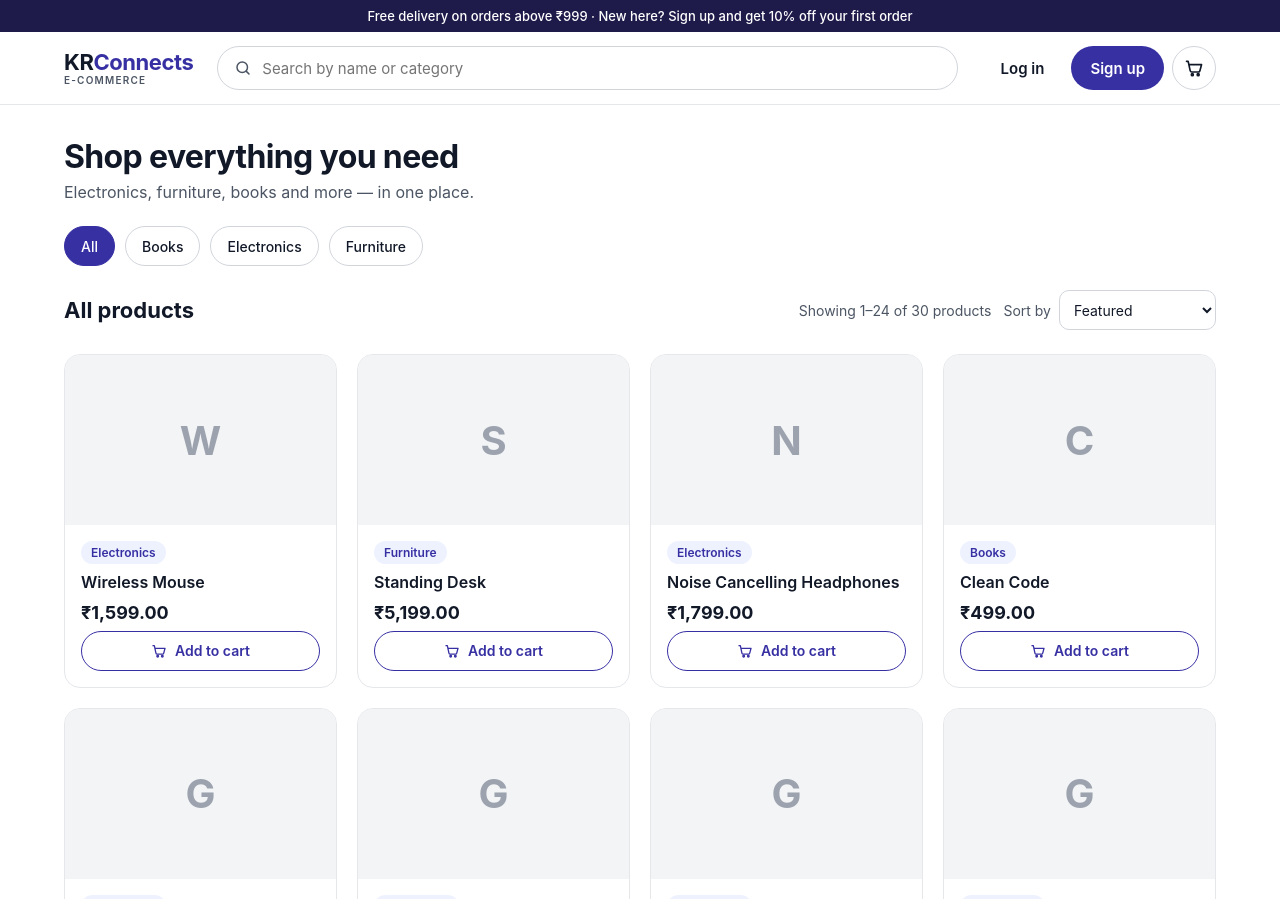
Scenario: App (storefront home page) › removes a product from the cart from the home page
Check: the link "Wireless Mouse" is shown, box [81,572,205,592]
// Add, then remove the same product
Click the button "Add to cart" below "₹1,599.00" at (200, 651), box [81,631,320,671]
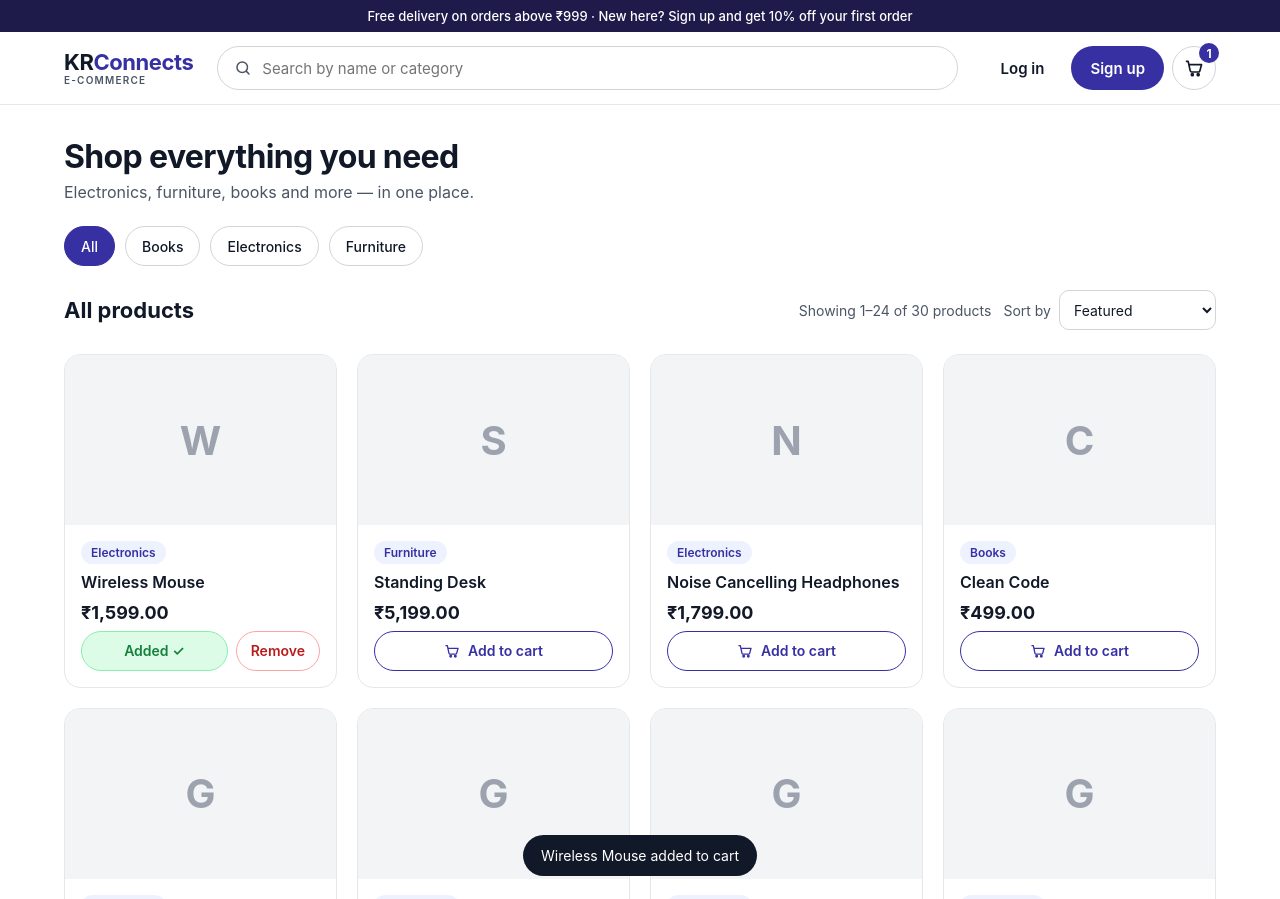
Click the button named "Remove Wireless Mouse from cart" at (278, 651), box [236,631,320,671]
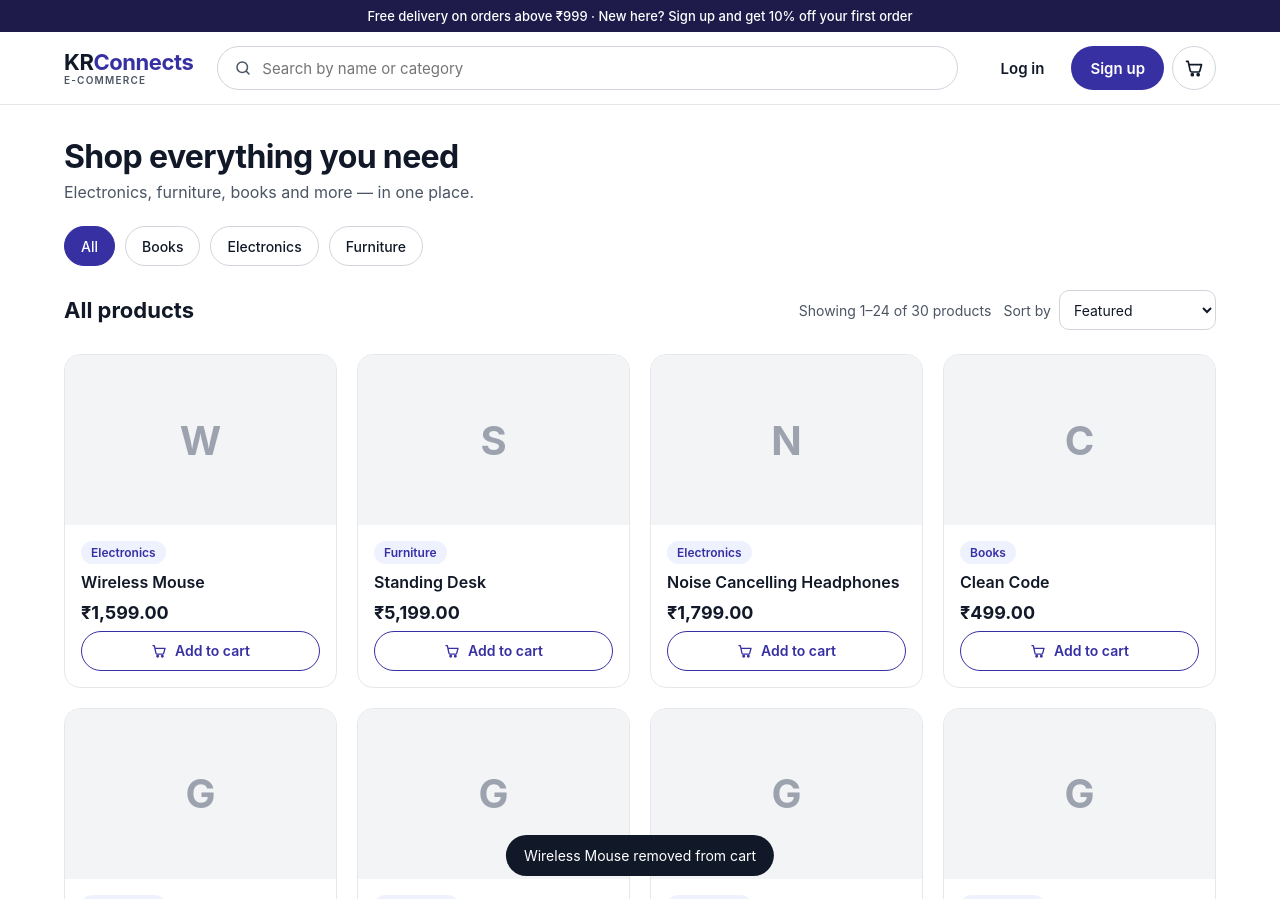
Check: the button "Added ✓" is gone
Check: the link named "Cart, 0 items" is shown, box [1172,46,1216,90]
